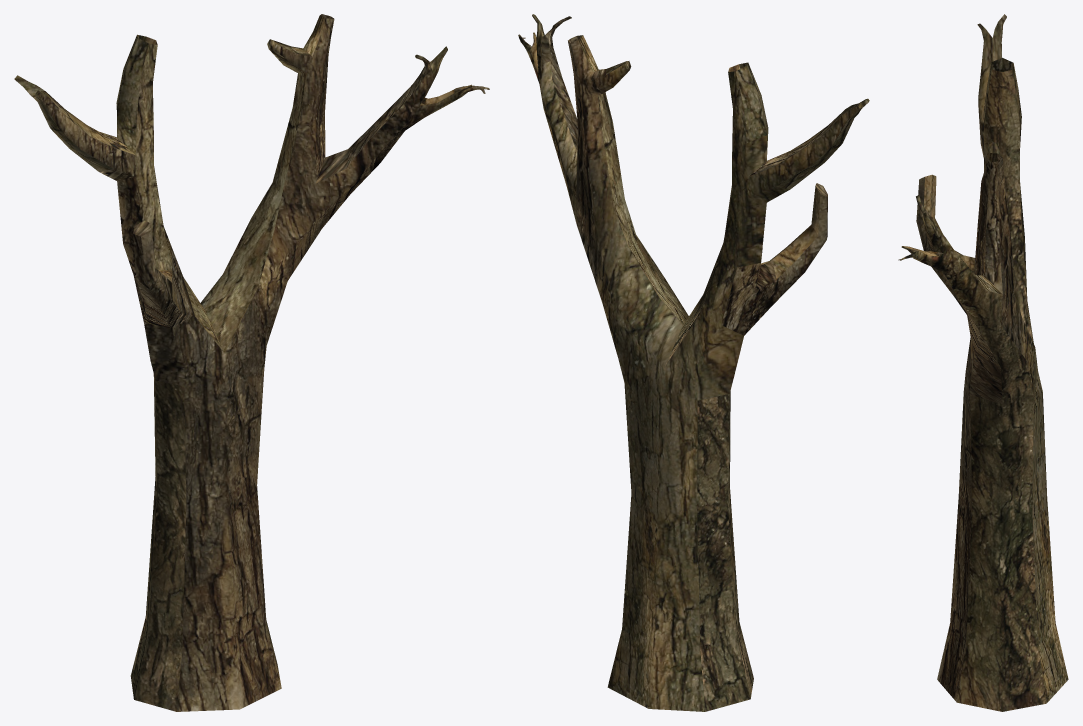
Rendered from New Tree.fbx.
The picture shows the model from 3 angles, left to right: view 1: azimuth 30°, elevation 25°; view 2: azimuth 150°, elevation 25°; view 3: azimuth 270°, elevation 25°; orthographic projection. The views are drawn at different scales.
Parts seen in each view (by area): view 1: pCylinder4; view 2: pCylinder4; view 3: pCylinder4.
Boxes of the visible parts, <box> form: pCylinder4: <box>14,14,489,711</box>; pCylinder4: <box>518,14,869,711</box>; pCylinder4: <box>898,14,1068,711</box>.
Bounding box in the file's own units: 2.85 × 4.3 × 1.12.
